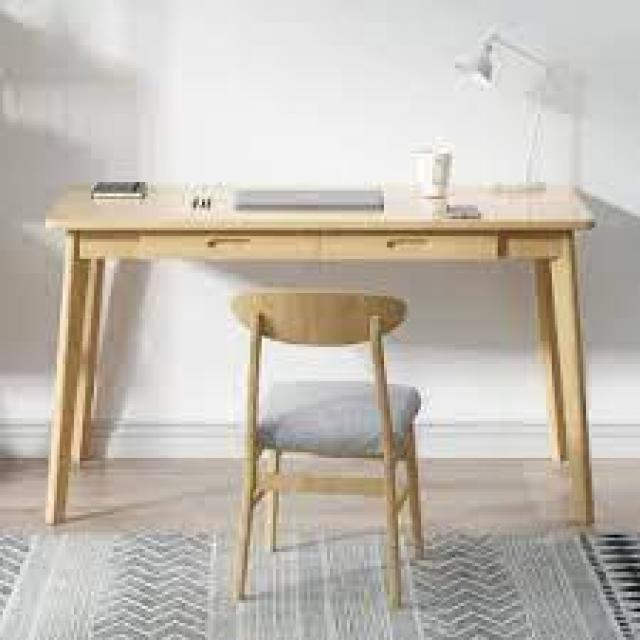table: (26, 138, 608, 573)
